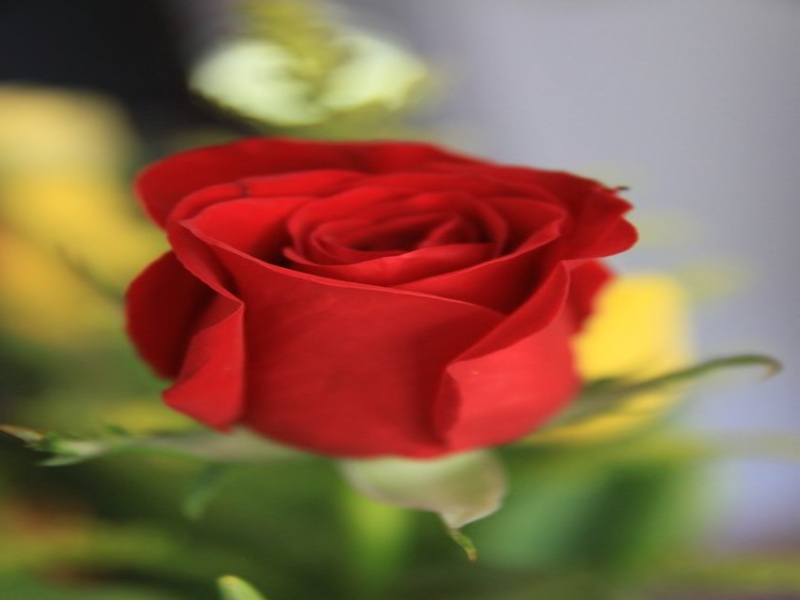rose: (118, 113, 673, 470)
